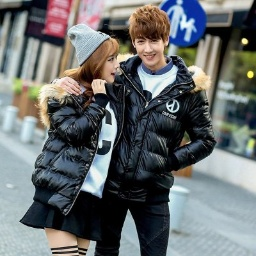face: (128, 5, 172, 68), (77, 38, 120, 84)
